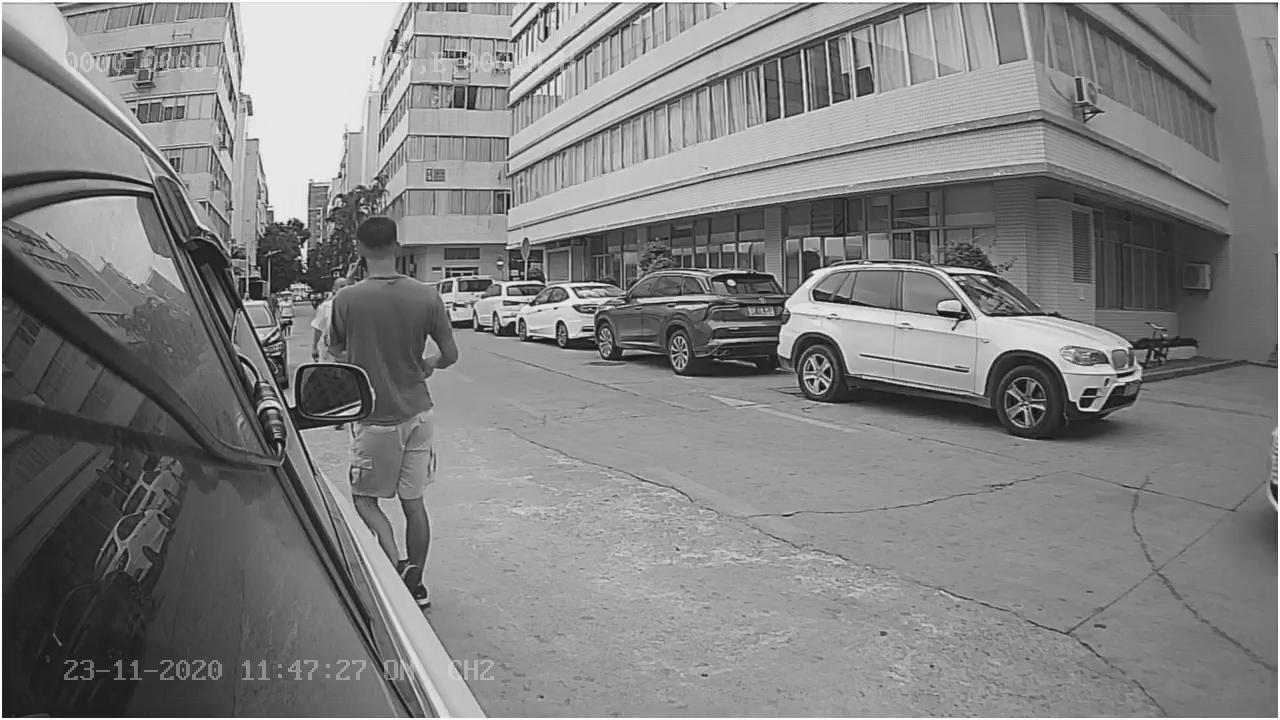person: (319, 212, 459, 364)
